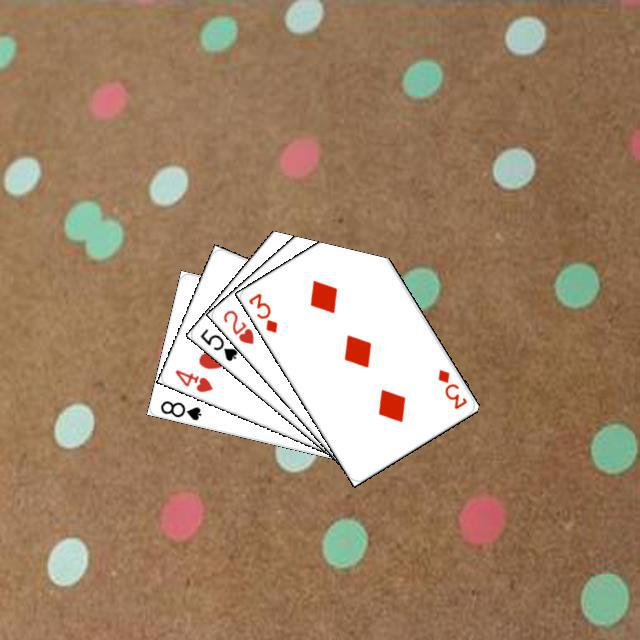2h: (218, 305, 256, 346)
3d: (243, 288, 279, 335), (433, 364, 469, 411)
4h: (170, 364, 214, 394)
5s: (195, 323, 239, 363)
8s: (155, 396, 203, 422)
